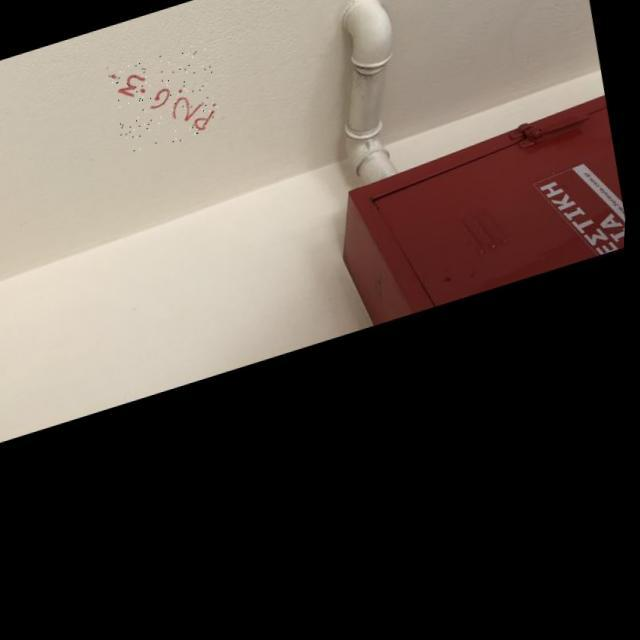-: (105, 41, 227, 163)
